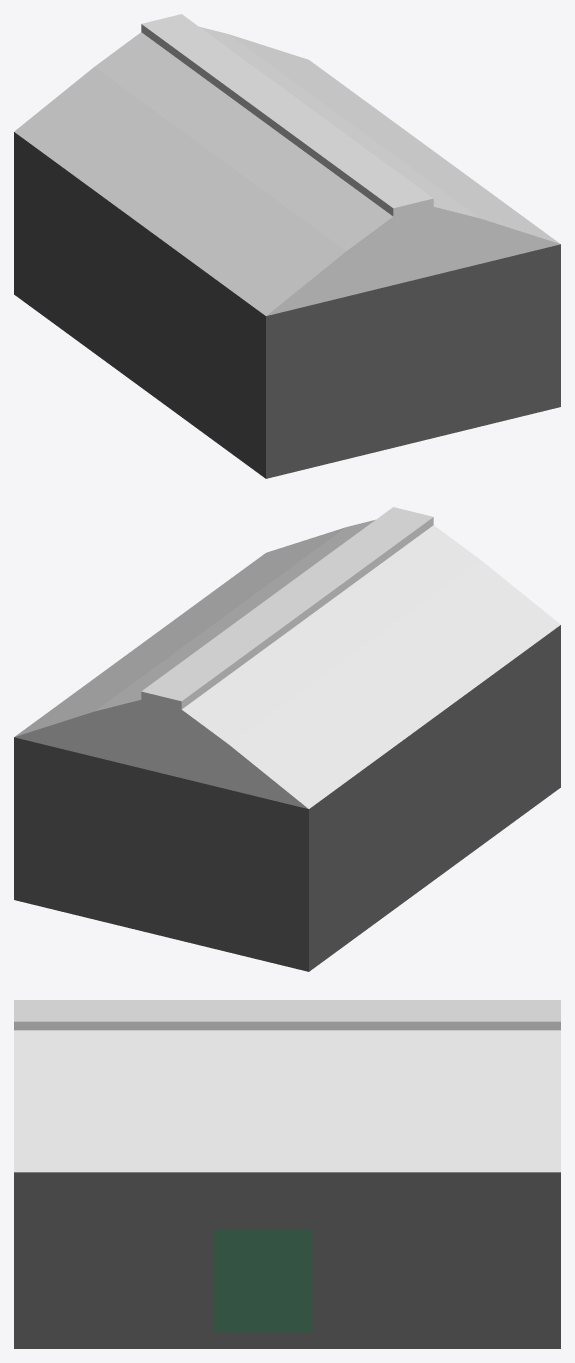
The model's file is SD_House2.fbx.
The picture shows the model from 3 angles, top to bottom: view 1: azimuth 30°, elevation 25°; view 2: azimuth 150°, elevation 25°; view 3: azimuth 270°, elevation 25°; orthographic projection. The views are drawn at different scales.
Parts seen in each view (by area): view 1: Cube; view 2: Cube; view 3: Cube.
Part boxes in pixels (x1,y1,x2,y2): Cube: (14,14,560,478); Cube: (14,507,560,971); Cube: (14,1000,560,1348).
Bounding box in the file's own units: 980 × 761 × 1451.
